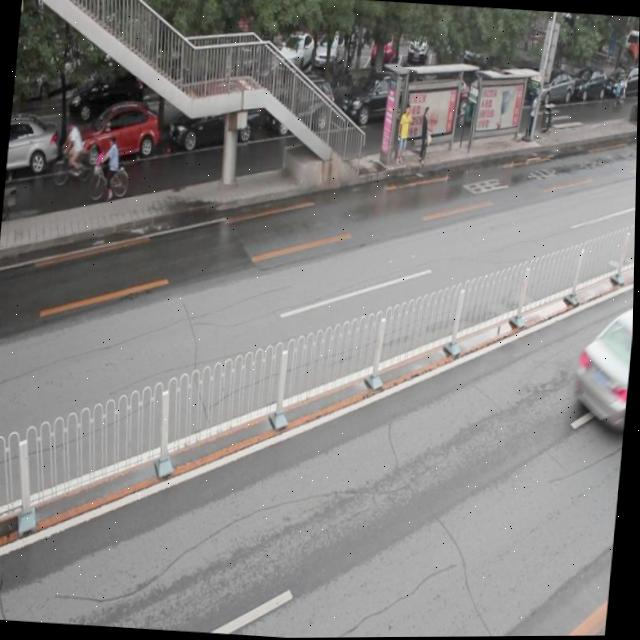car: (569, 298, 635, 432), (165, 93, 261, 160), (72, 95, 163, 165), (340, 70, 414, 134), (266, 74, 337, 139), (7, 115, 64, 178)
